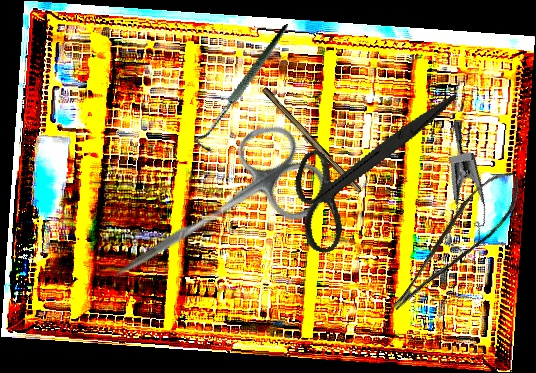Hook Surgical: (166, 23, 324, 156)
Iris Scissors: (88, 110, 338, 323), (276, 56, 457, 277)
Micro Scissor: (369, 162, 536, 316)
Scalpel Handle: (258, 86, 365, 196)
Speculum: (402, 119, 510, 260)
